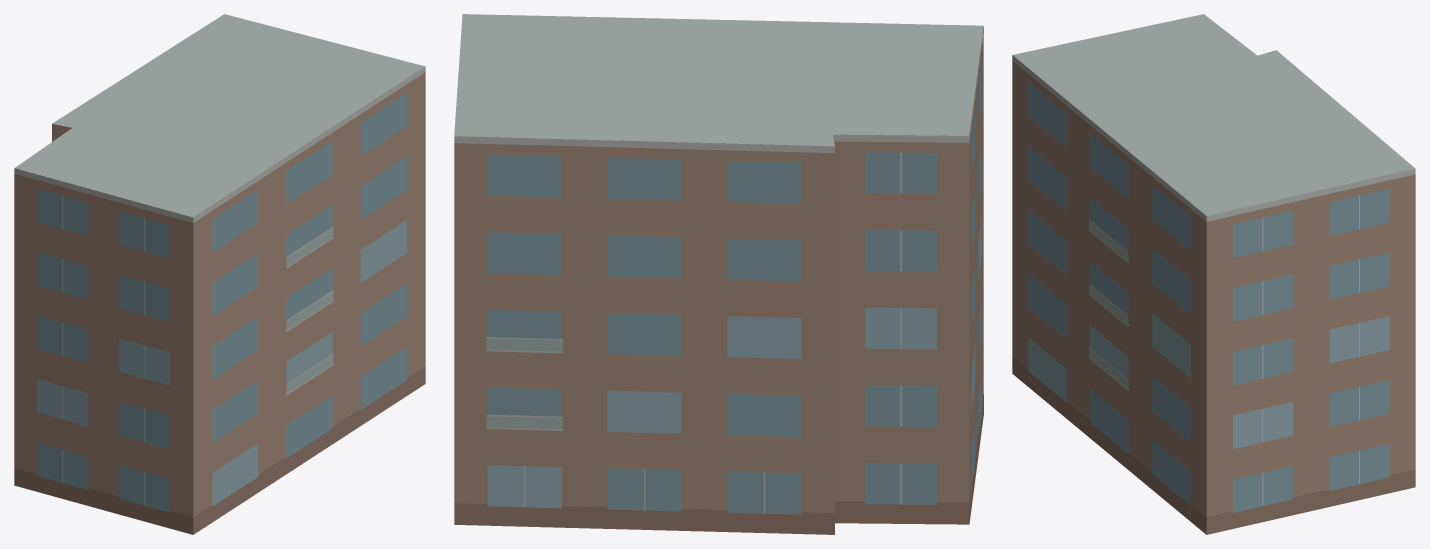
The model's file is survey-upis-32619220.glb.
3 views of the same model, side by side, from view 1: azimuth 30°, elevation 25°; view 2: azimuth 150°, elevation 25°; view 3: azimuth 270°, elevation 25° (orthographic). The views are drawn at different scales.
Visible parts, largest first — view 1: survey-upis-32619220.tmp; view 2: survey-upis-32619220.tmp; view 3: survey-upis-32619220.tmp.
Boxes of the visible parts, bbox=[...] form: survey-upis-32619220.tmp: bbox=[14, 14, 425, 534]; survey-upis-32619220.tmp: bbox=[454, 14, 983, 534]; survey-upis-32619220.tmp: bbox=[1012, 14, 1415, 534].
Size of the model in its own units: 18.92 by 13.9 by 15.95.
